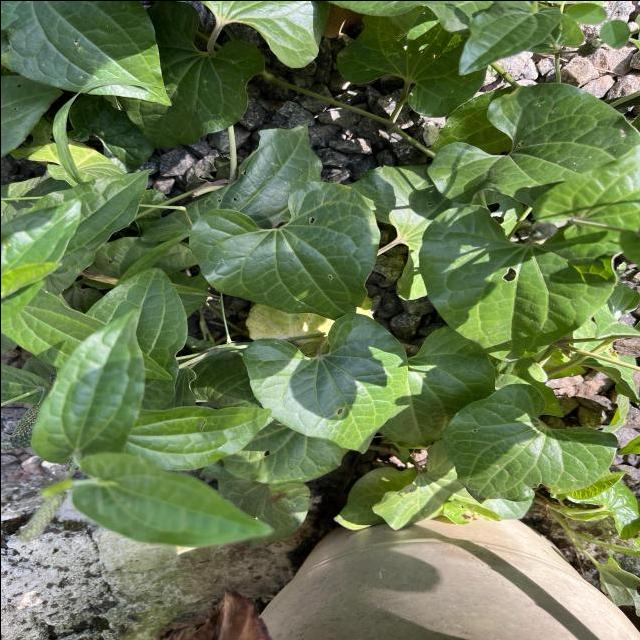Piper longum: (186, 176, 382, 320), (240, 310, 410, 456), (438, 382, 620, 504)
